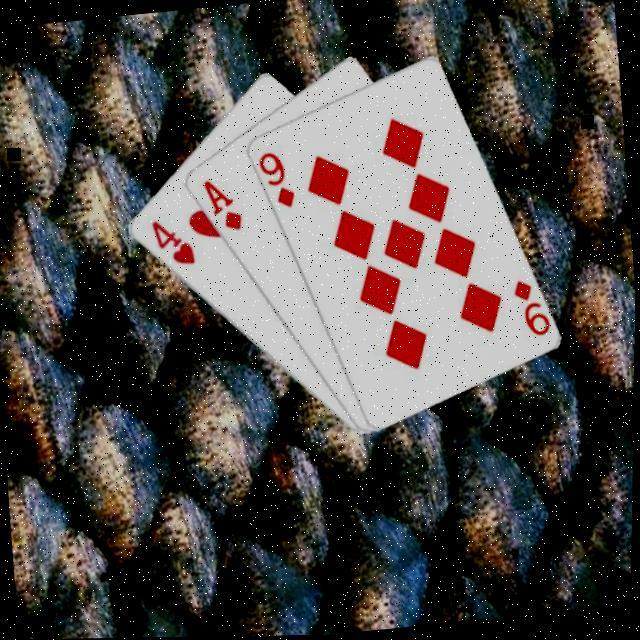4H: (147, 214, 200, 272)
9D: (254, 147, 300, 214), (510, 276, 554, 344)
AD: (198, 174, 248, 238)
